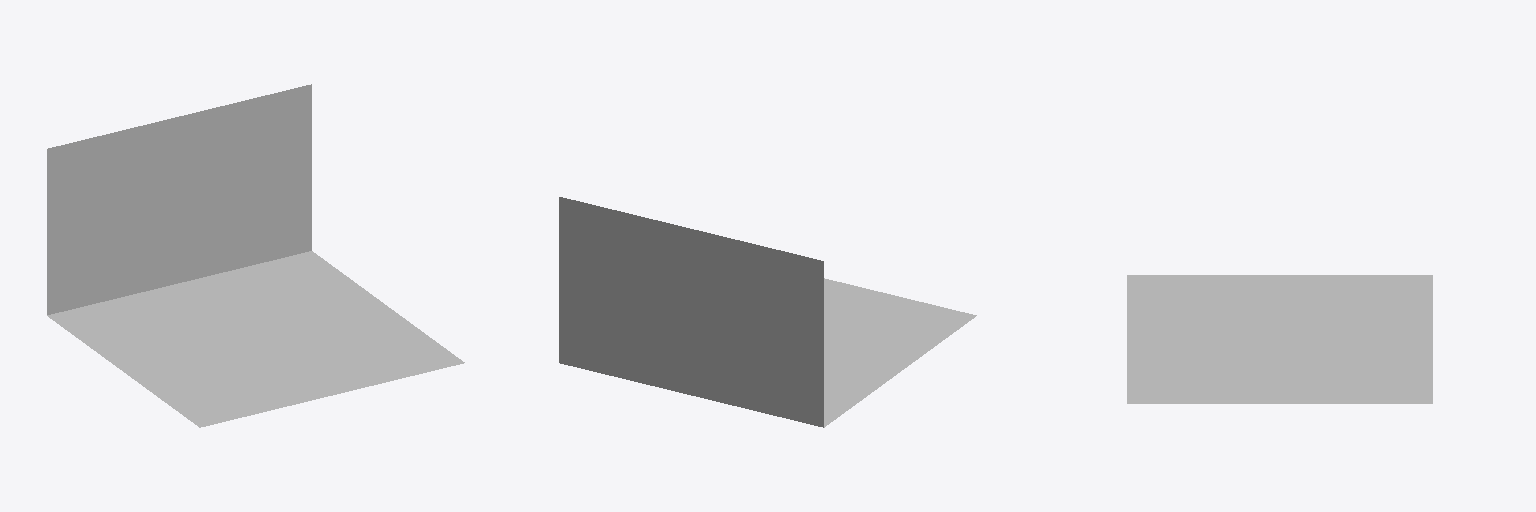
File: Room.obj
3 renders of one model, left to right at view 1: azimuth 30°, elevation 25°; view 2: azimuth 150°, elevation 25°; view 3: azimuth 270°, elevation 25°, orthographic.
Visible parts, largest first — view 1: pPlane3; view 2: pPlane3; view 3: pPlane3.
Boxes of the visible parts, <box> form: pPlane3: <box>47,84,464,427</box>; pPlane3: <box>559,197,976,427</box>; pPlane3: <box>1127,275,1432,403</box>.
Bounding box in the file's own units: 5 × 3 × 5.